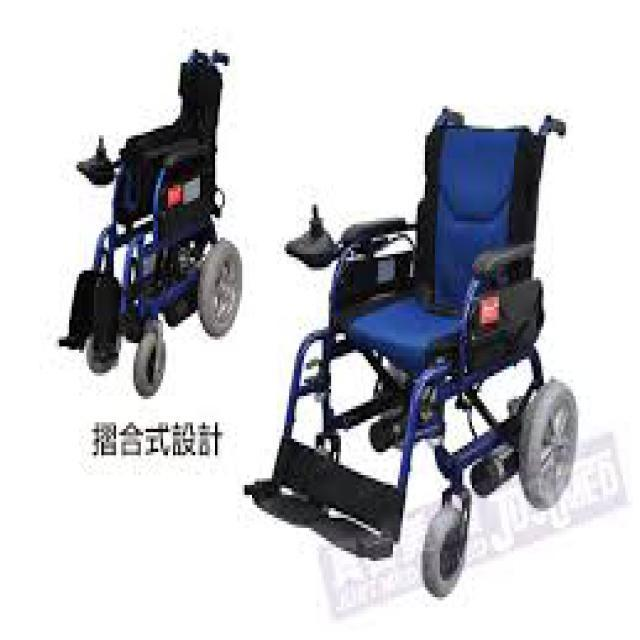wheelchairs: (263, 108, 578, 598)
